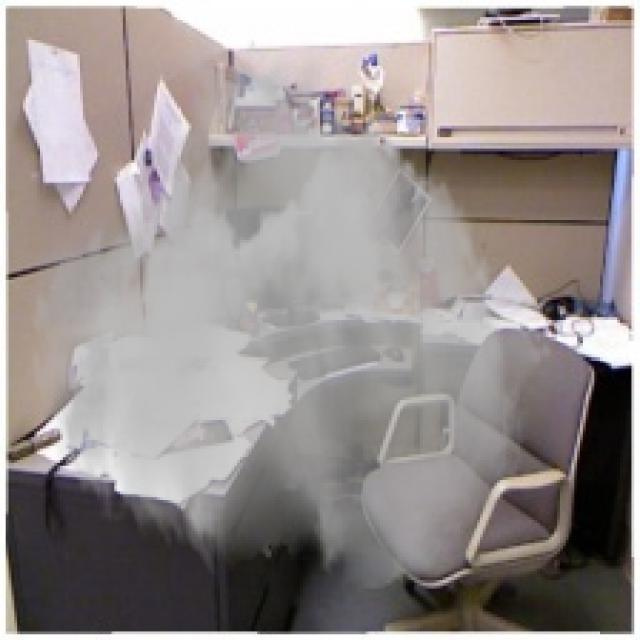Smoke: (26, 34, 554, 594)
